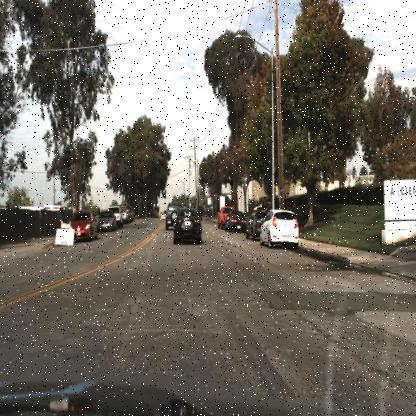car: (258, 204, 300, 253), (170, 203, 209, 249), (66, 208, 100, 248), (172, 204, 203, 245), (241, 204, 261, 246), (162, 198, 180, 236), (226, 208, 248, 236), (95, 208, 116, 236), (109, 204, 124, 230), (216, 203, 225, 234)
